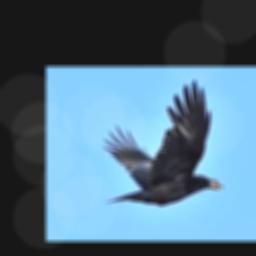Crow: (104, 79, 223, 205)
